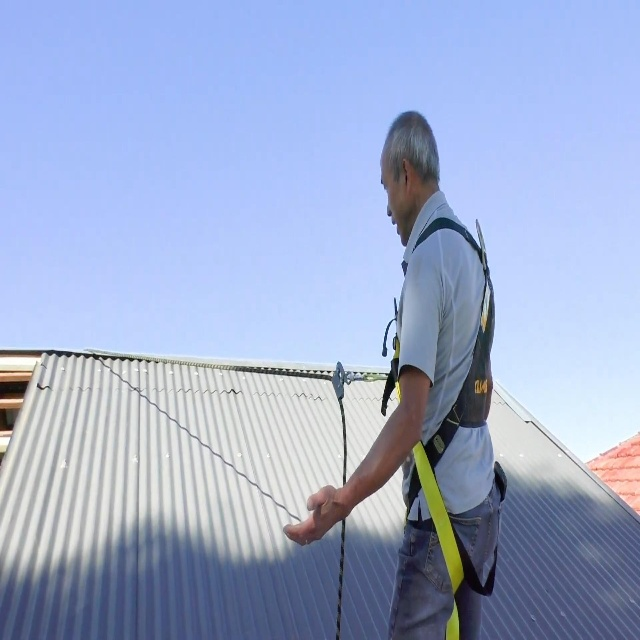Arnes_seguridad: (382, 207, 509, 640)
